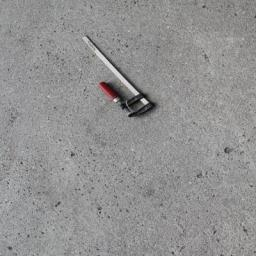FOD: (79, 35, 159, 120)
